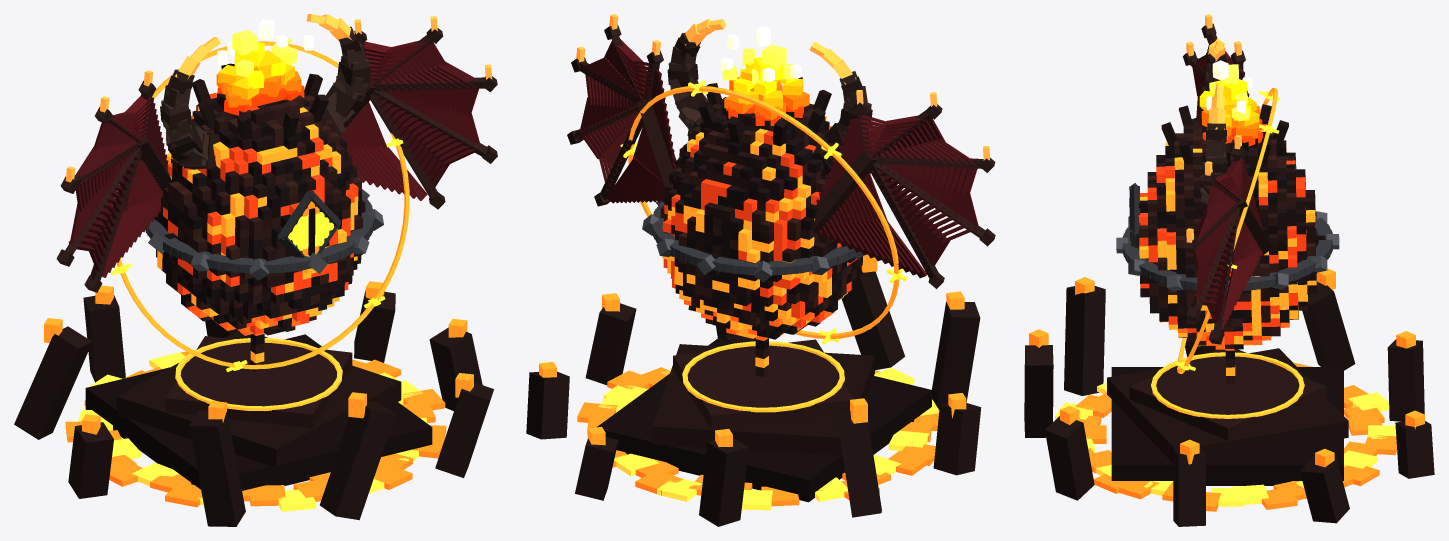
Rendered from egg_inferno.glb.
3 renders of one model, left to right at view 1: azimuth 30°, elevation 25°; view 2: azimuth 150°, elevation 25°; view 3: azimuth 270°, elevation 25°, orthographic. The views are drawn at different scales.
Visible parts, largest first — view 1: root_geo, shell_geo, wing_L_geo, egg_geo, wing_R_geo, orbit_geo, eye_geo, flame0_geo, flame4_geo, flame1_geo, flame3_geo; view 2: root_geo, shell_geo, wing_R_geo, wing_L_geo, egg_geo, orbit_geo, flame0_geo, flame3_geo, flame2_geo, flame4_geo; view 3: root_geo, shell_geo, wing_L_geo, egg_geo, wing_R_geo, flame0_geo, orbit_geo, flame2_geo, eye_geo.
Part boxes in pixels (bbox=[...]): root_geo: bbox=[14, 281, 493, 526]; shell_geo: bbox=[154, 92, 365, 372]; wing_L_geo: bbox=[333, 16, 497, 209]; egg_geo: bbox=[145, 14, 383, 280]; wing_R_geo: bbox=[56, 70, 172, 292]; orbit_geo: bbox=[112, 41, 409, 369]; eye_geo: bbox=[278, 190, 341, 257]; flame0_geo: bbox=[232, 19, 286, 107]; flame4_geo: bbox=[217, 50, 264, 115]; flame1_geo: bbox=[271, 35, 313, 100]; flame3_geo: bbox=[216, 41, 244, 94]; root_geo: bbox=[526, 254, 981, 526]; shell_geo: bbox=[660, 97, 862, 376]; wing_R_geo: bbox=[812, 90, 995, 288]; wing_L_geo: bbox=[567, 14, 676, 206]; egg_geo: bbox=[642, 19, 872, 282]; orbit_geo: bbox=[628, 86, 899, 338]; flame0_geo: bbox=[741, 26, 786, 107]; flame3_geo: bbox=[751, 67, 785, 125]; flame2_geo: bbox=[720, 57, 758, 119]; flame4_geo: bbox=[779, 63, 809, 117]; root_geo: bbox=[1024, 268, 1434, 526]; shell_geo: bbox=[1130, 120, 1325, 384]; wing_L_geo: bbox=[1183, 135, 1272, 344]; egg_geo: bbox=[1116, 38, 1339, 291]; wing_R_geo: bbox=[1183, 14, 1249, 123]; flame0_geo: bbox=[1201, 60, 1247, 136]; orbit_geo: bbox=[1177, 87, 1277, 373]; flame2_geo: bbox=[1231, 101, 1262, 146]; eye_geo: bbox=[1129, 183, 1140, 250].
Bounding box in the file's own units: 10.03 × 9.1 × 8.84.
